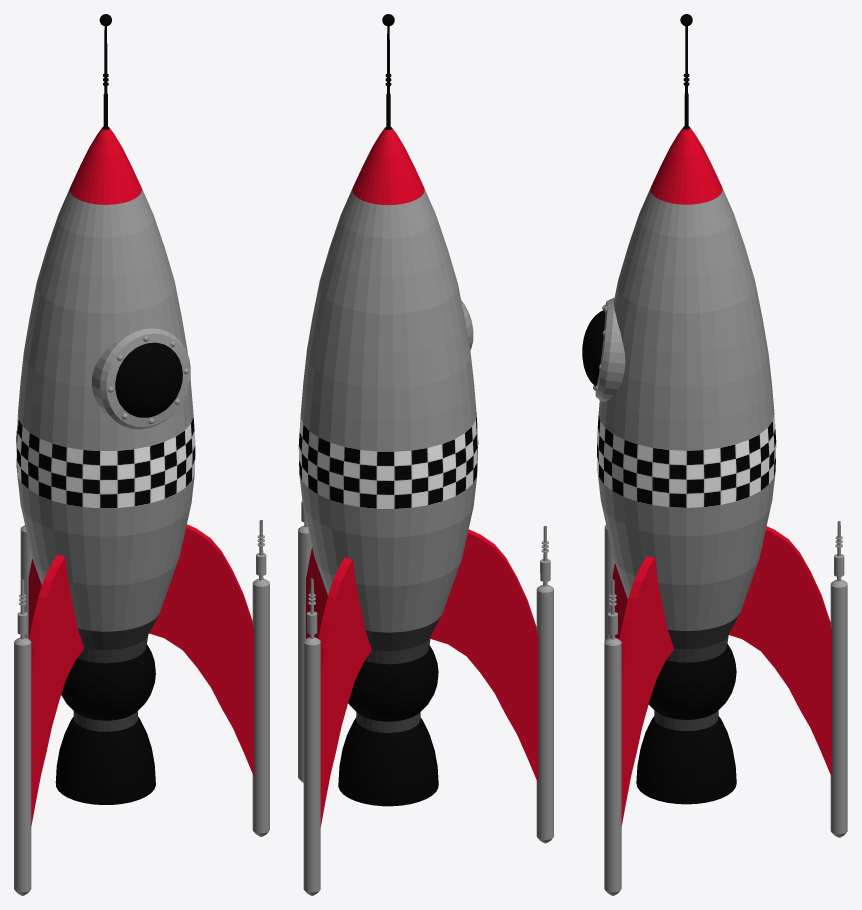
Rendered from rakete.glb.
3 renders of one model, left to right at view 1: azimuth 30°, elevation 25°; view 2: azimuth 150°, elevation 25°; view 3: azimuth 270°, elevation 25°, orthographic.
Visible parts, largest first — view 1: Body_3, Right Wing_7, Thruster_15, Left Wing_5, Left Rod_6, Thruster Sphere_9, Right Rod_8, Window_11, Window Hatch_12, Thruster Connector_10, Back Rod_14, Back Wing_13; view 2: Body_3, Left Wing_5, Thruster_15, Back Wing_13, Back Rod_14, Left Rod_6, Thruster Sphere_9, Right Rod_8, Right Wing_7, Thruster Connector_10; view 3: Body_3, Back Wing_13, Thruster_15, Right Wing_7, Right Rod_8, Back Rod_14, Thruster Sphere_9, Window Hatch_12, Window_11, Left Rod_6, Thruster Connector_10, Left Wing_5.
Part boxes in pixels (x1,y1,x2,y2): Body_3: (16,26,195,663); Right Wing_7: (149,524,253,776); Thruster_15: (55,716,155,804); Left Wing_5: (29,554,83,825); Left Rod_6: (14,579,31,895); Thruster Sphere_9: (61,644,155,720); Right Rod_8: (252,520,269,836); Window_11: (115,342,182,417); Window Hatch_12: (91,328,190,429); Thruster Connector_10: (73,711,137,731); Back Rod_14: (20,525,32,638); Back Wing_13: (28,559,41,638); Body_3: (298,26,478,664); Left Wing_5: (429,529,538,783); Thruster_15: (338,717,438,806); Back Wing_13: (318,557,371,826); Back Rod_14: (303,578,320,895); Left Rod_6: (536,526,553,843); Thruster Sphere_9: (348,645,438,721); Right Rod_8: (298,501,311,782); Right Wing_7: (306,547,327,638); Thruster Connector_10: (356,712,420,732); Body_3: (597,26,776,662); Back Wing_13: (728,526,831,777); Thruster_15: (636,716,736,804); Right Wing_7: (619,556,673,825); Right Rod_8: (604,579,621,895); Back Rod_14: (830,521,847,837); Thruster Sphere_9: (648,643,736,719); Window Hatch_12: (595,297,625,401); Window_11: (582,310,605,386); Left Rod_6: (604,525,614,640); Thruster Connector_10: (654,710,718,731); Left Wing_5: (612,563,627,639).
Size of the model in its own units: 2.57 by 7.98 by 2.33.
6 materials, 1 textured.
